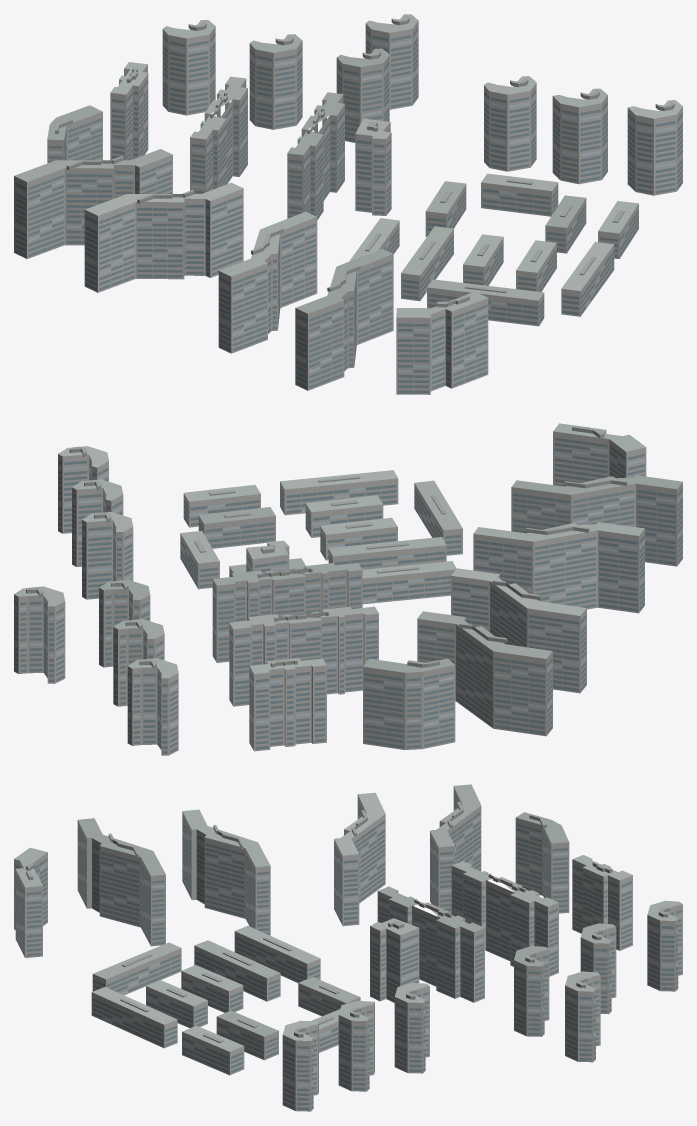
File: apt-a13981903.glb
3 renders of one model, top to bottom at view 1: azimuth 30°, elevation 25°; view 2: azimuth 150°, elevation 25°; view 3: azimuth 270°, elevation 25°, orthographic. The views are drawn at different scales.
Visible parts, largest first — view 1: apt-a13981903; view 2: apt-a13981903; view 3: apt-a13981903.
Boxes of the visible parts, box(x1,y1,x2,y2) form: apt-a13981903: box(14, 14, 682, 394); apt-a13981903: box(14, 423, 682, 755); apt-a13981903: box(14, 784, 682, 1111).
Bounding box in the file's own units: 357 × 47.81 × 393.
